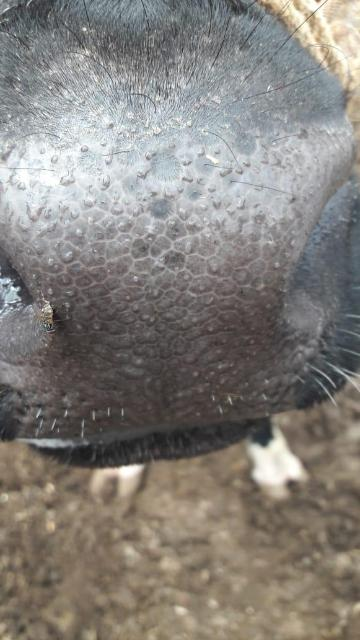Muzzle: (11, 168, 304, 408)
